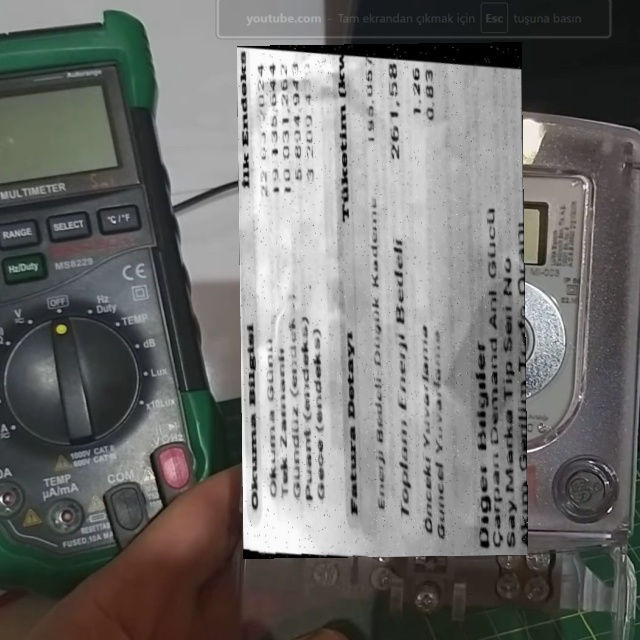electricity-bill: (236, 41, 528, 559)
